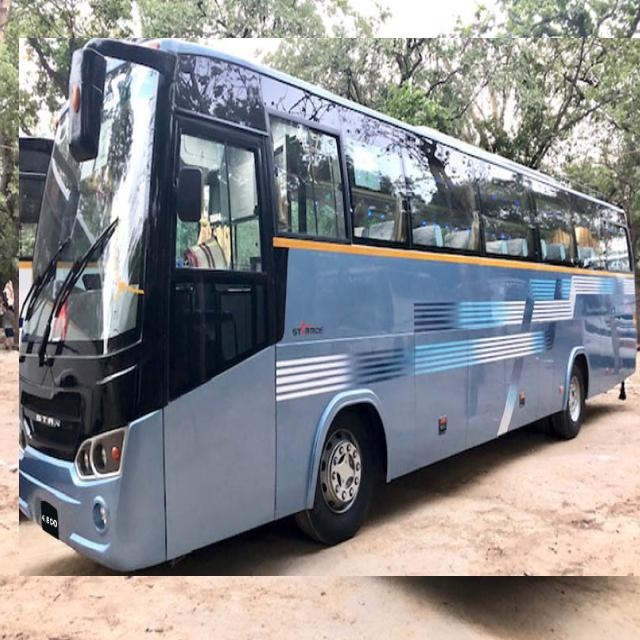bus: (19, 38, 640, 576)
